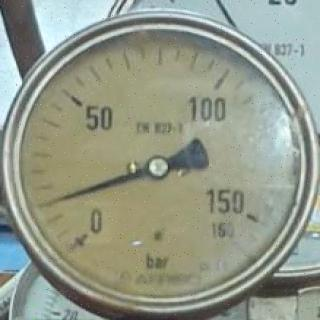gauge: (0, 0, 320, 320), (62, 206, 116, 260), (226, 192, 272, 242), (145, 154, 171, 180), (37, 199, 51, 212)
